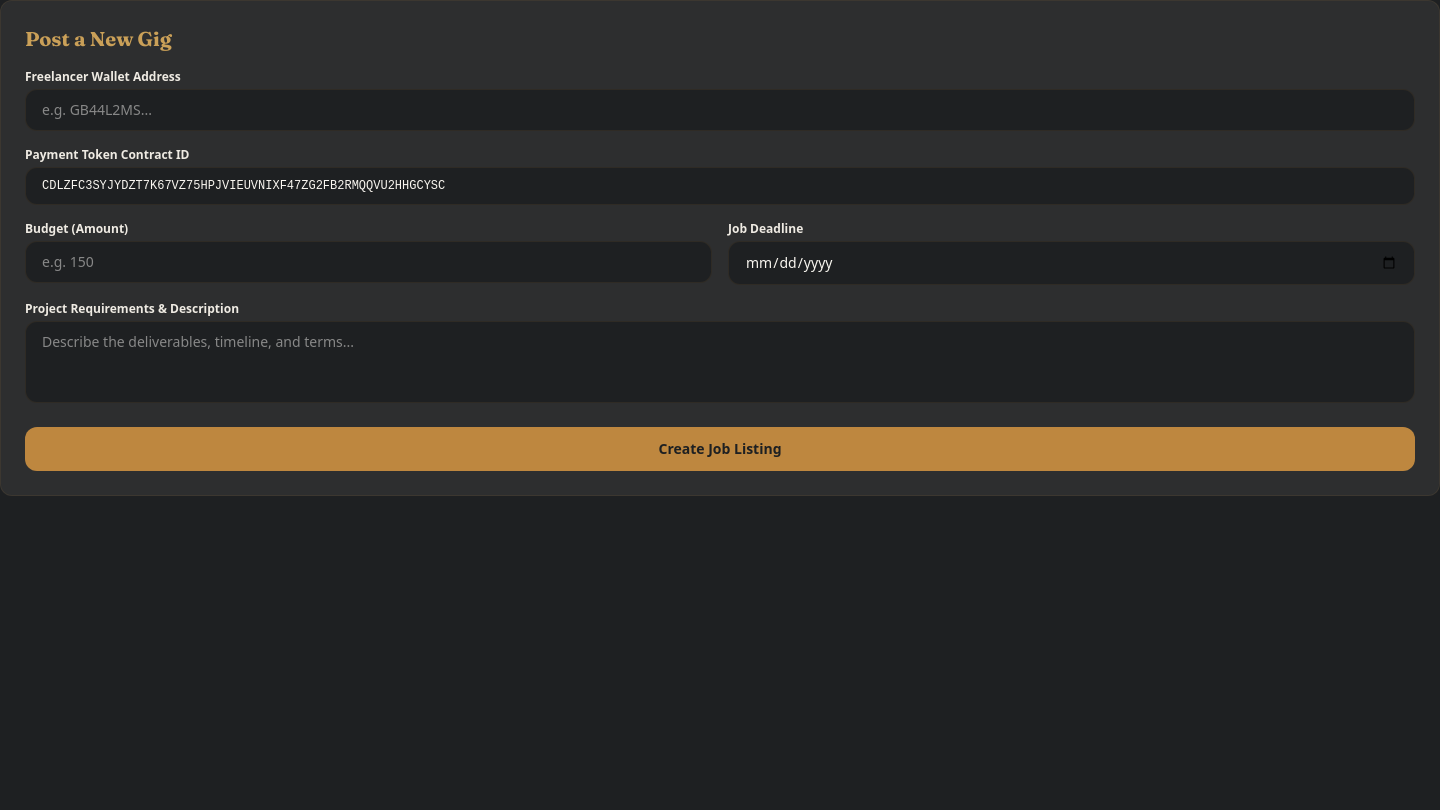
Test: SkillEscrow Frontend Unit Tests › shows validation error when entering an invalid freelancer address
This screenshot has width=1440, height=810.
// Type an invalid address
Type "invalid-address" into the field with placeholder "e.g. GB44L2MS..." at (720, 110), box [25,89,1415,131]
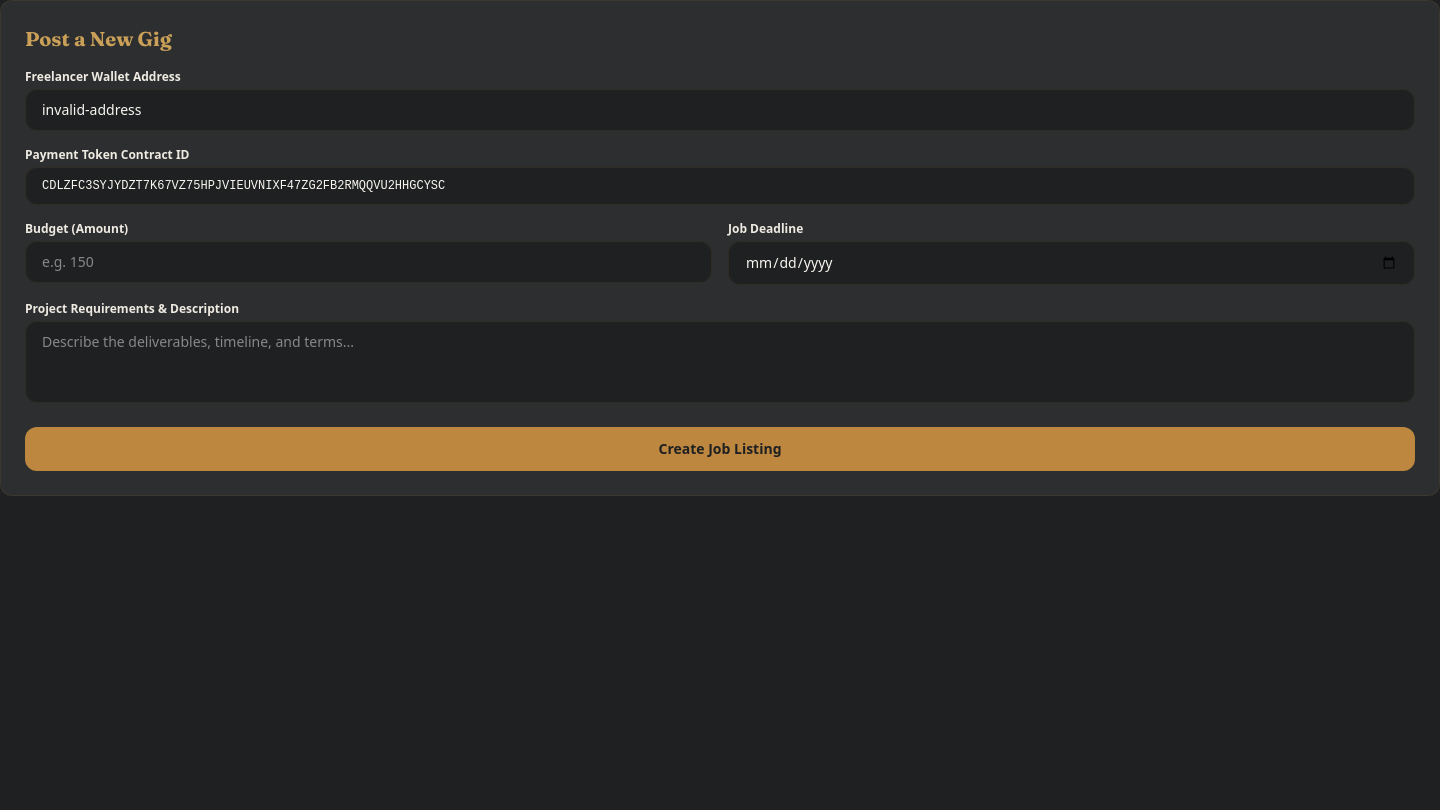
Click the button "Create Job Listing" at (720, 449), box [25,427,1415,471]
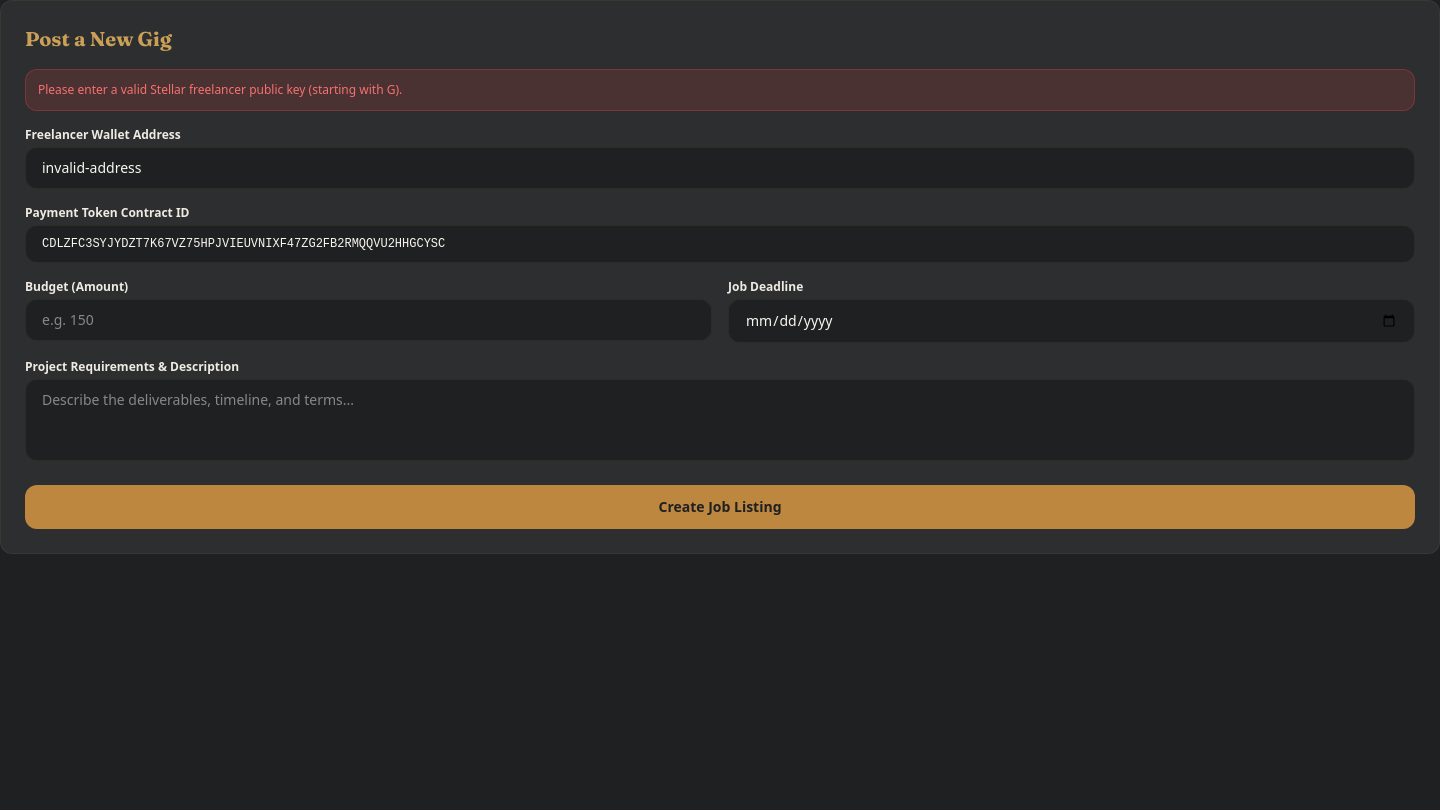
Now the text "Please enter a valid Stellar freelancer public key (starting with G)." is shown, box [25,69,1415,111]
